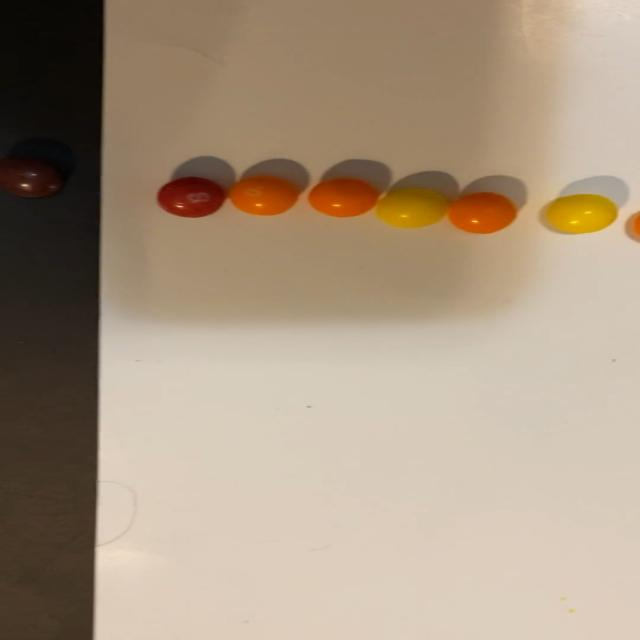smartie: (448, 192, 517, 234), (308, 177, 379, 217), (376, 188, 447, 228), (156, 176, 225, 217), (546, 194, 618, 233), (228, 175, 297, 215), (1, 161, 63, 198)
